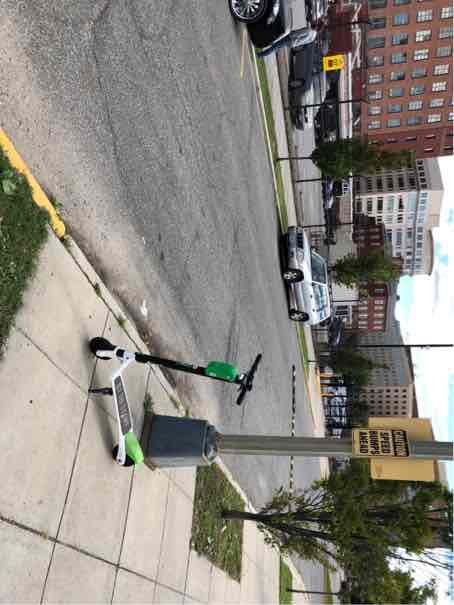scooter: (329, 88, 454, 264)
